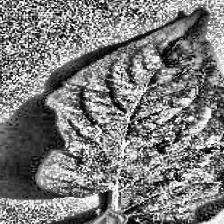spider mites: (37, 7, 224, 224)
